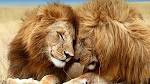lion: (73, 4, 149, 84), (12, 9, 79, 84)
